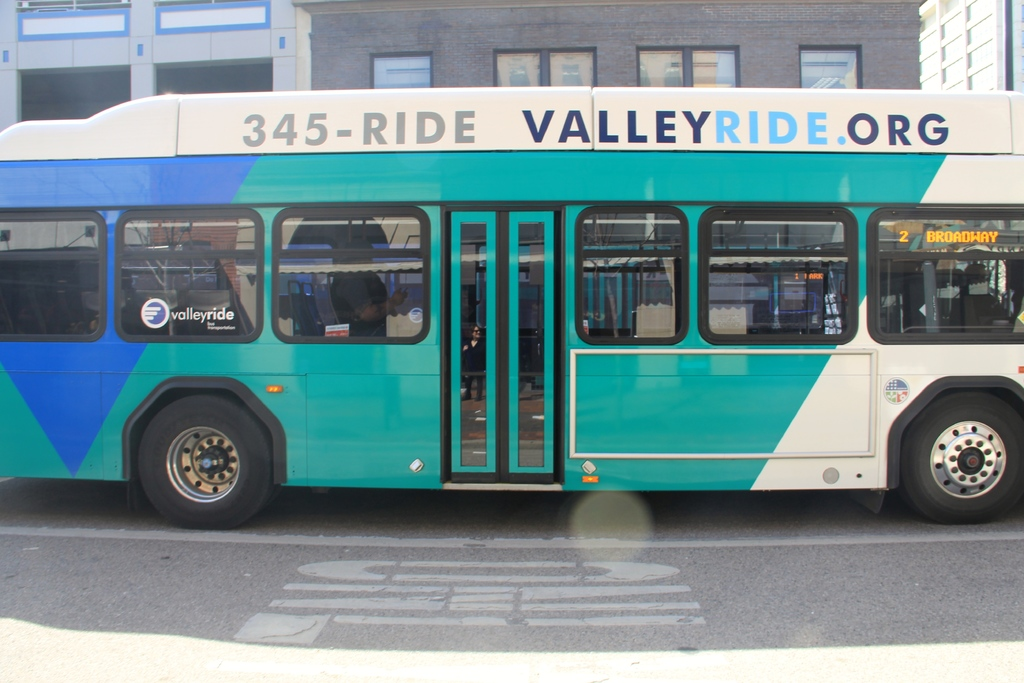Bus: (0, 86, 1023, 529)
